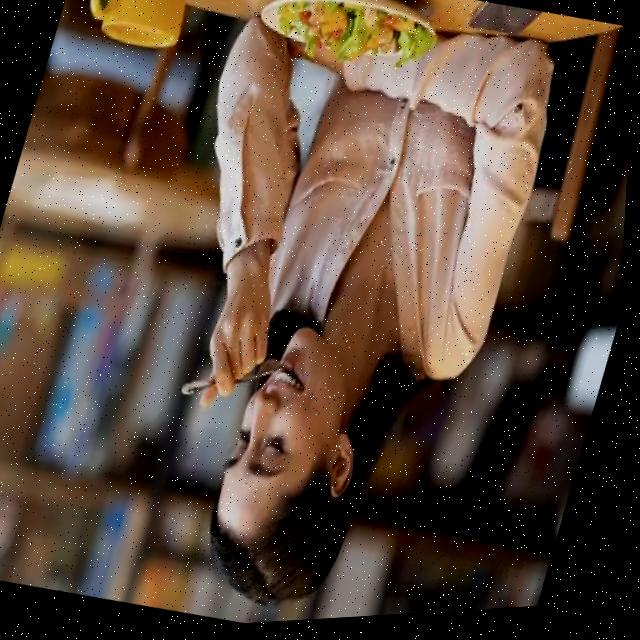eating-person: (71, 0, 590, 635)
